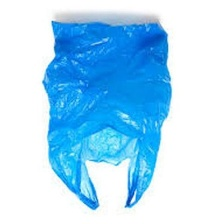plastic_bag: (37, 15, 176, 218)
